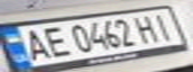0: (66, 20, 90, 54)
2: (115, 16, 139, 47)
4: (87, 18, 109, 52)
6: (103, 17, 124, 50)
A: (15, 26, 54, 62)
E: (33, 24, 72, 57)
H: (130, 12, 163, 44)
I: (148, 10, 184, 40)
